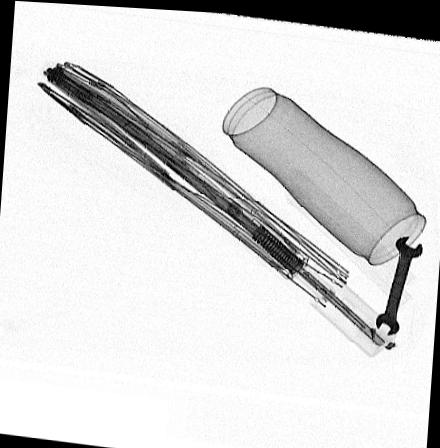Wrench: (375, 229, 423, 332)
